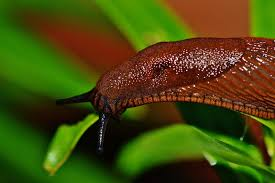slug: (62, 36, 275, 148)
